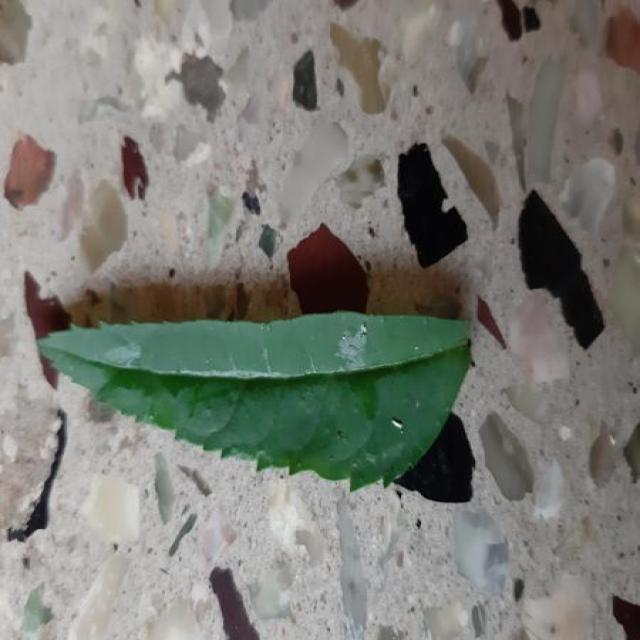marigold: (38, 311, 470, 489)
